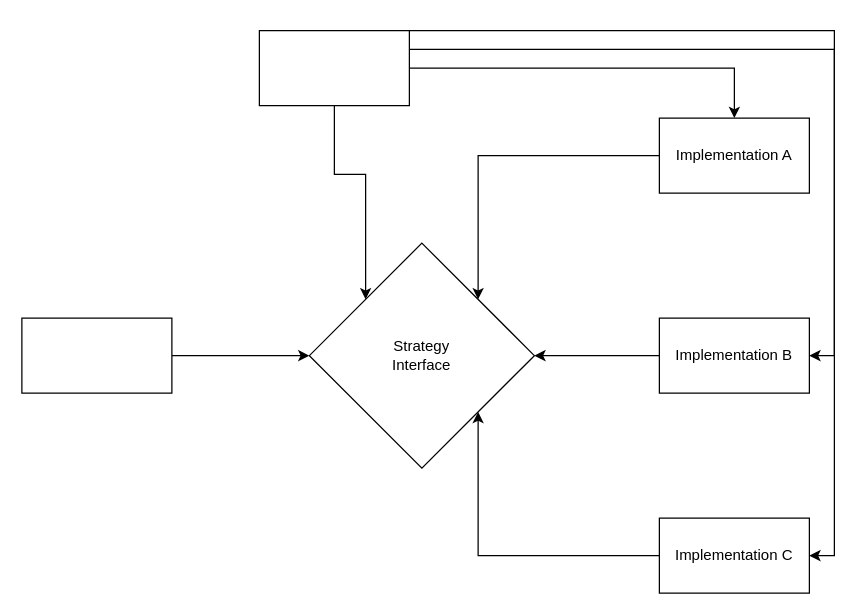
Image size: 866x615. Some labels were removed from this diagram. Each missing label, with the centre of its shape:
"Domain code deciding which implementation to use in this scenario" belongs at (x=333, y=67).
"Domain code using the strategy without knowing what is the implementation" belongs at (x=96, y=355).
